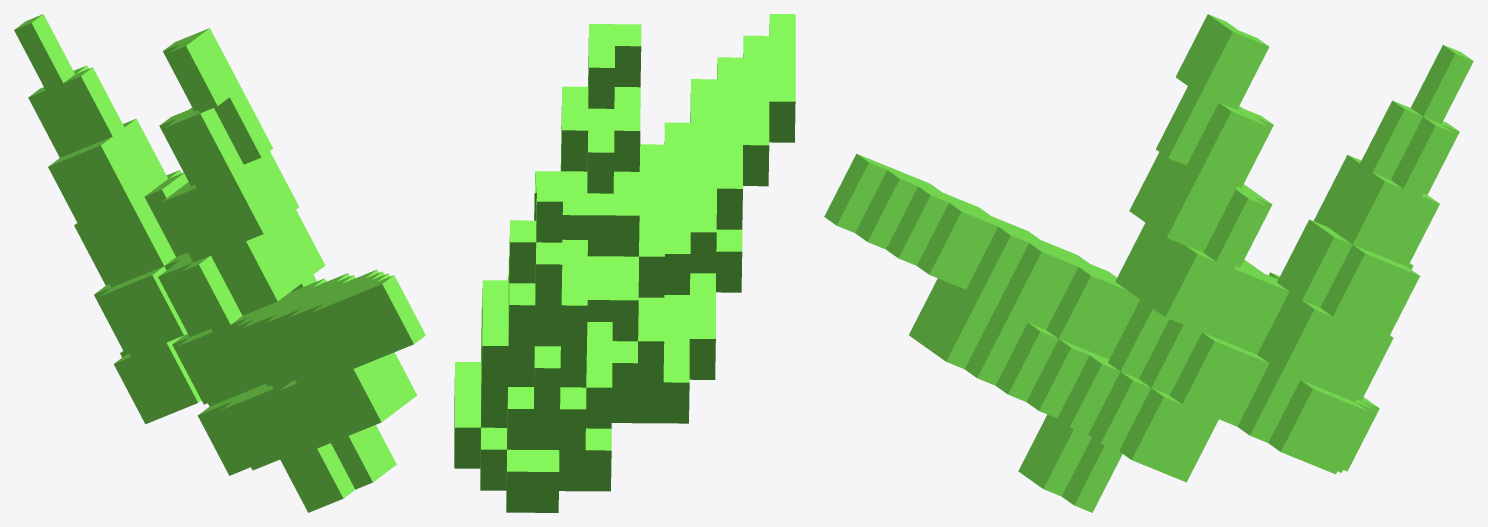
File: grass.fbx
3 views of the same model, side by side, from view 1: azimuth 30°, elevation 25°; view 2: azimuth 150°, elevation 25°; view 3: azimuth 270°, elevation 25° (orthographic). The views are drawn at different scales.
Parts seen in each view (by area): view 1: Cone.001; view 2: Cone.001; view 3: Cone.001.
Boxes of the visible parts, x1,y1,x2,y2 form: Cone.001: [14, 14, 425, 512]; Cone.001: [454, 14, 795, 512]; Cone.001: [824, 14, 1473, 512].
Bounding box in the file's own units: 286 × 555 × 734.
